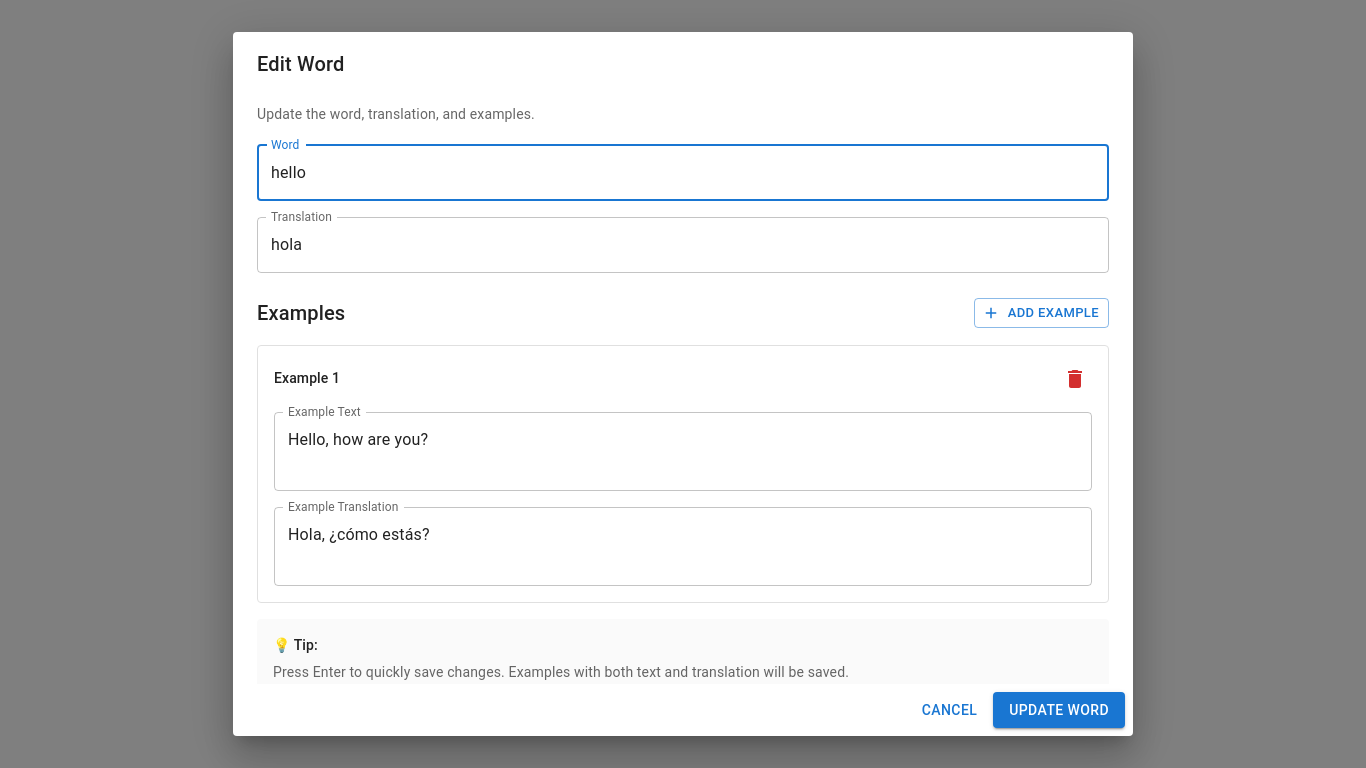
Test case: EditWordDialog › disables Update button when required fields are empty
Expected: the button "Update Word" is enabled, [993, 692, 1125, 728]
Step 1. Clear the field showing "hello" → (683,173), box [257, 145, 1109, 201]
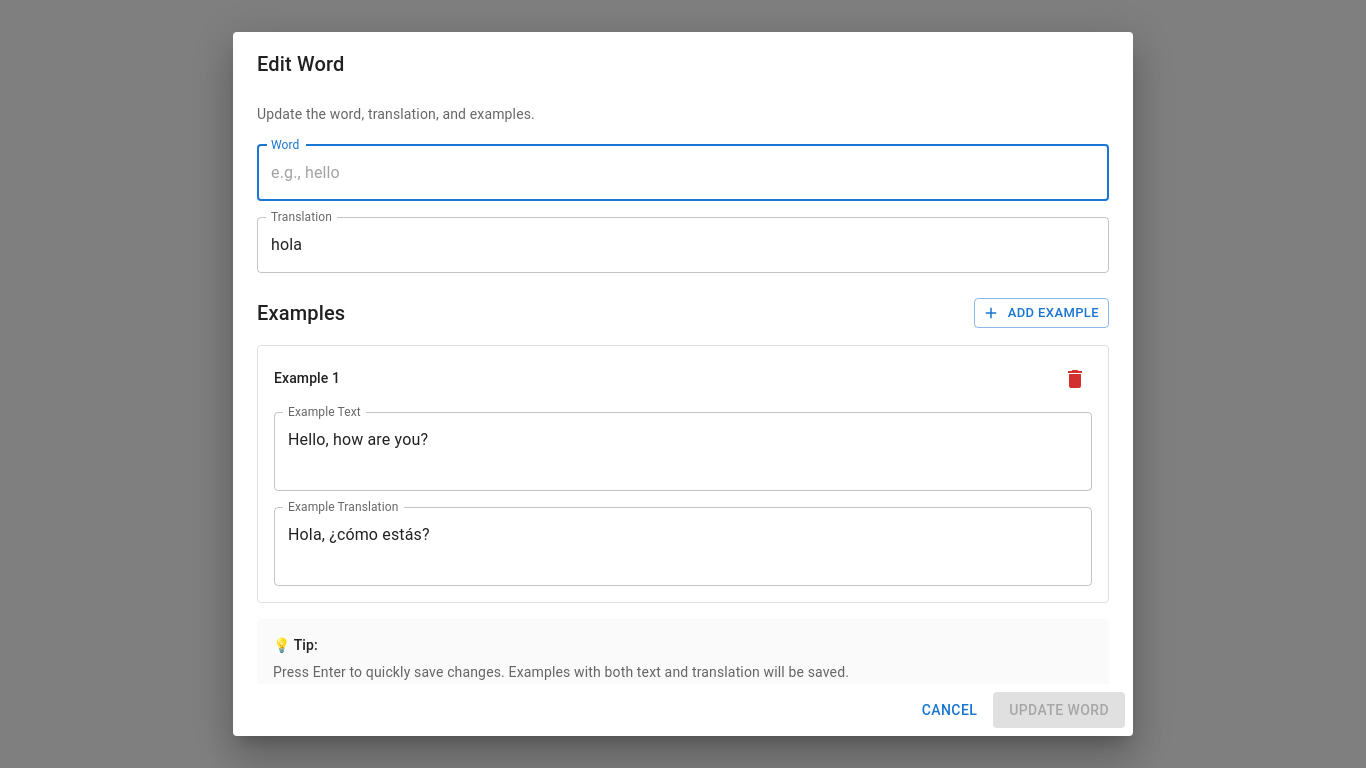
Expected: the button "Update Word" is disabled, [993, 692, 1125, 728]
